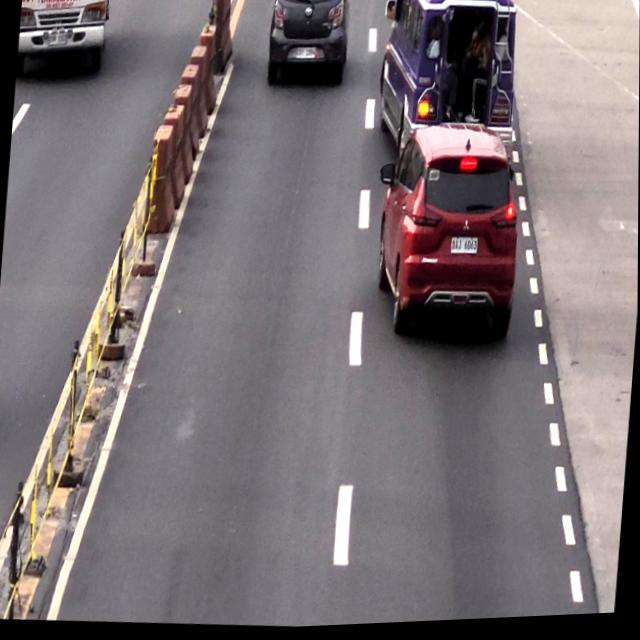Car: (370, 124, 523, 338), (266, 0, 349, 91)
Jeep: (378, 0, 521, 137)
License-Plate: (448, 237, 480, 261), (293, 45, 318, 66)
